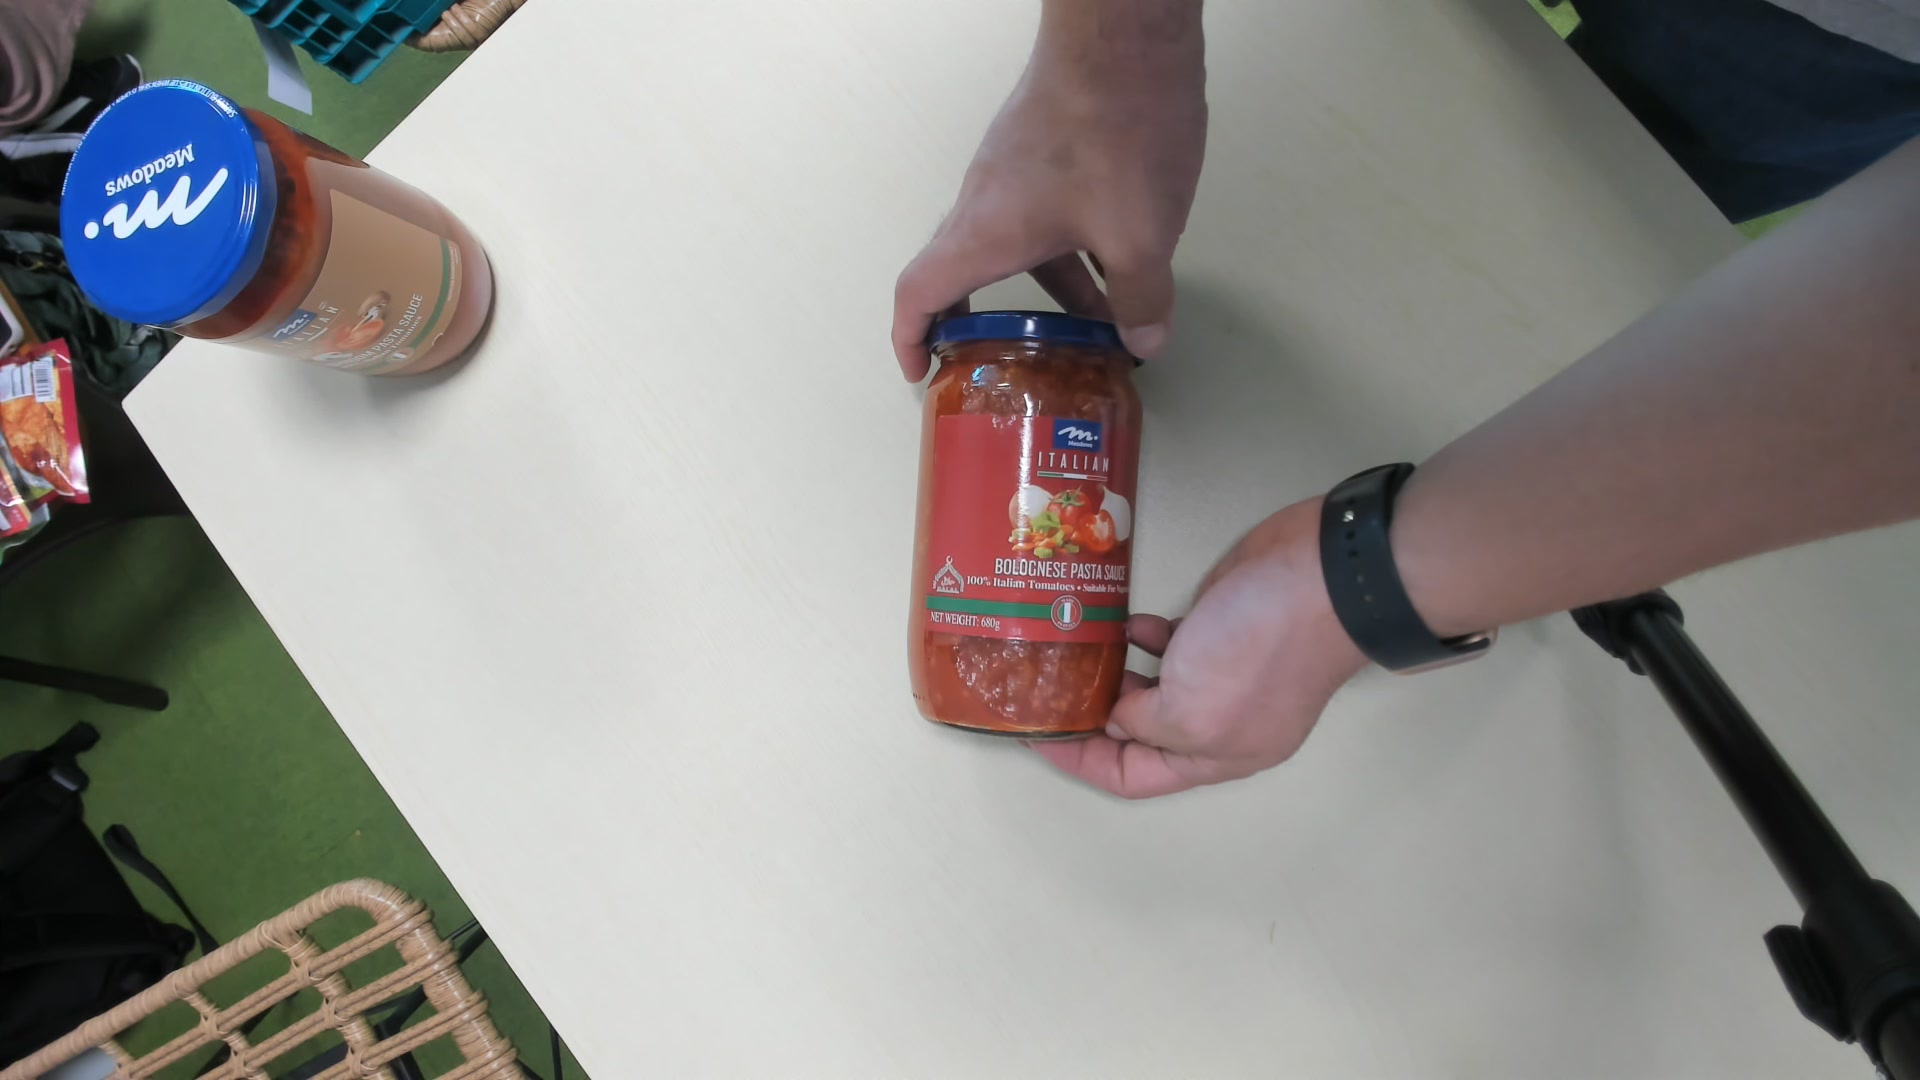PastaSauce_600-699g_Halal_NonHealthy: (905, 305, 1149, 738)
